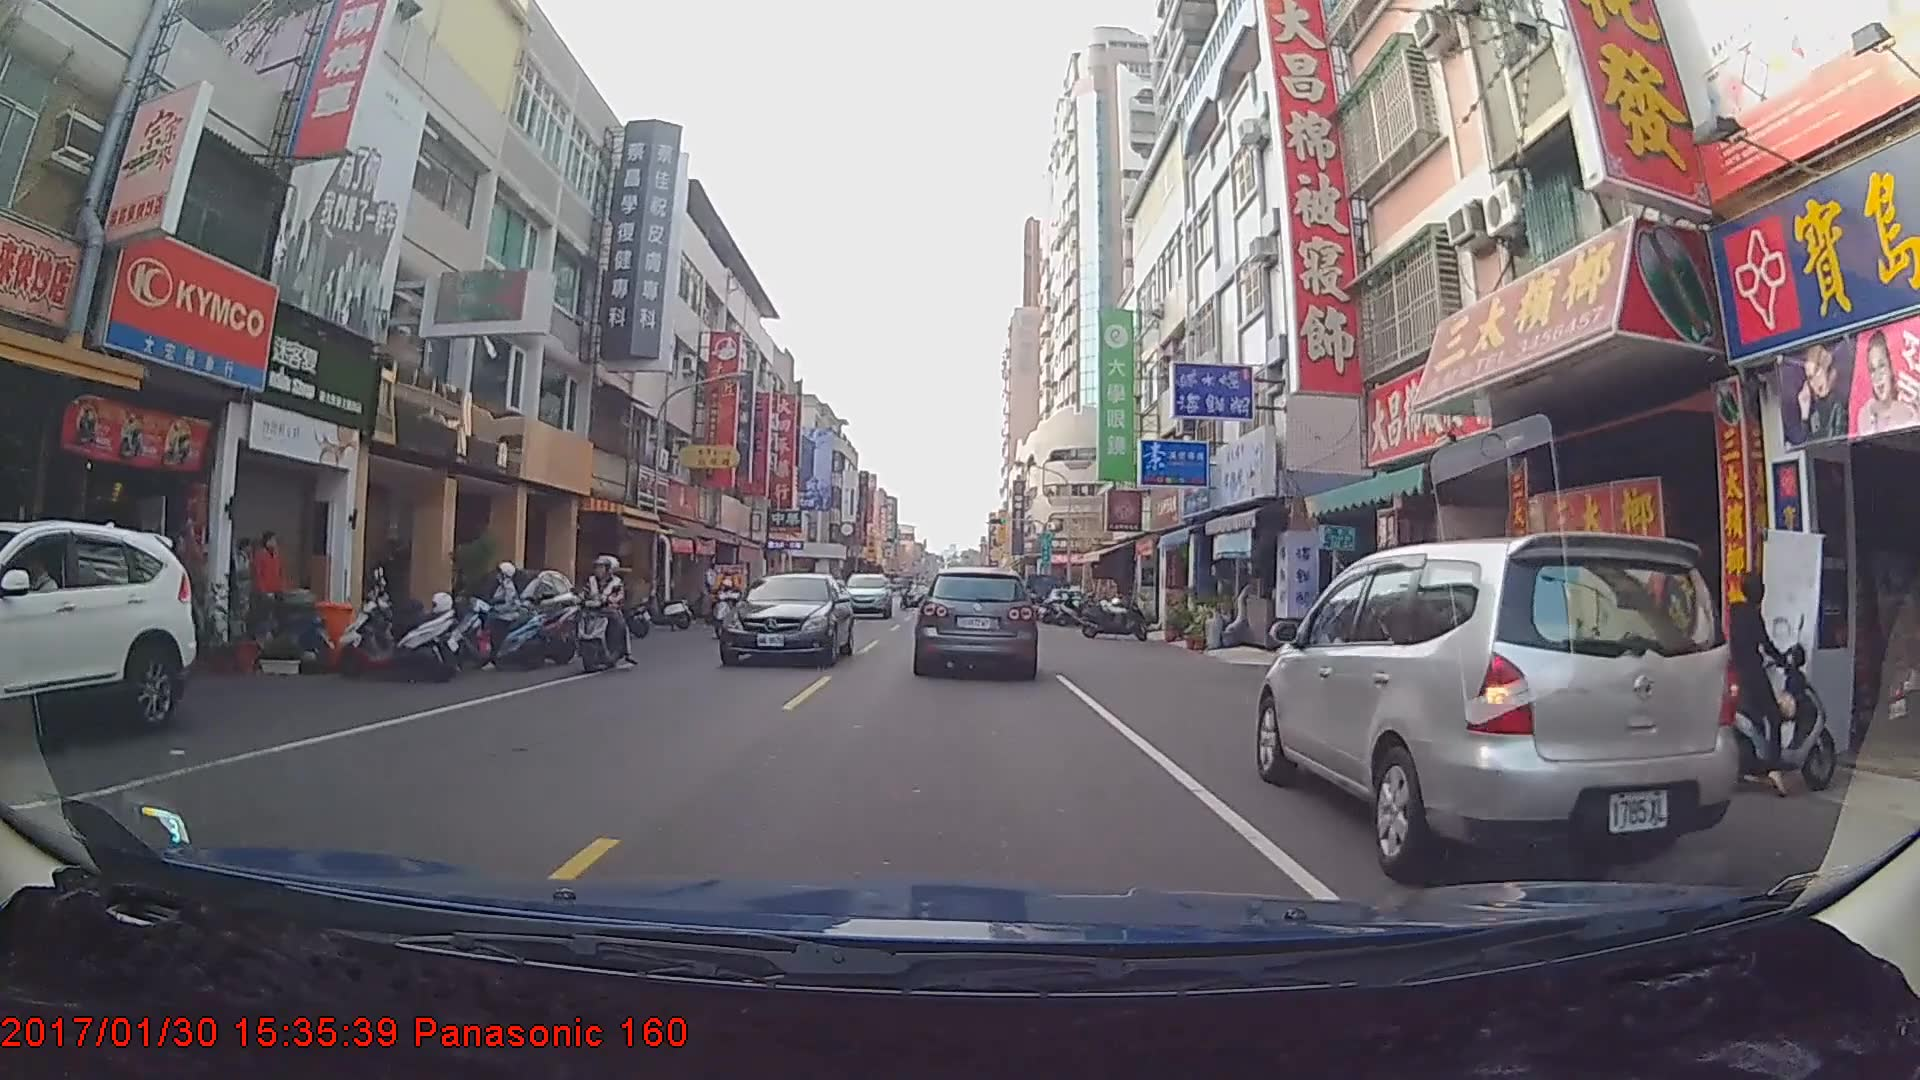pedestrian: (249, 526, 294, 640), (226, 528, 256, 632)
rider: (1644, 567, 1856, 806), (572, 549, 638, 676)
vehicle: (1252, 530, 1734, 889), (0, 518, 199, 760), (913, 567, 1037, 677), (720, 570, 855, 667), (841, 572, 894, 619)
